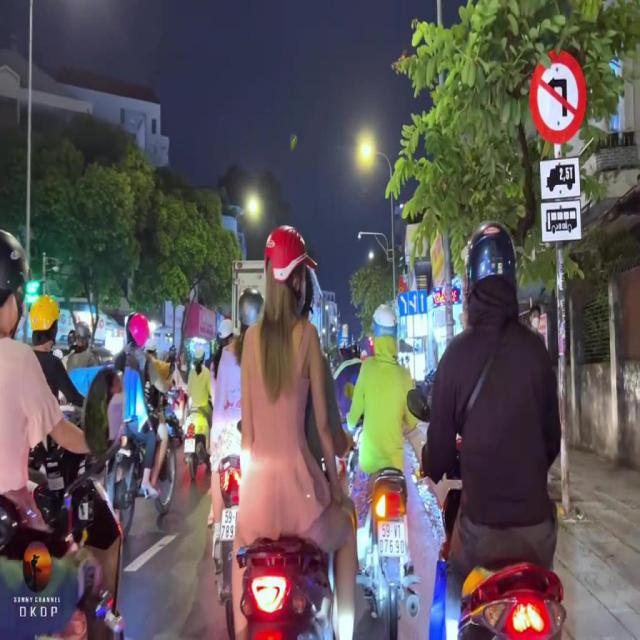cam_re_trai: (530, 50, 587, 144)
huong_di_tren_moi_lan_duong_theo_vach_ke_duong: (399, 291, 427, 316)
khac: (540, 158, 581, 200), (541, 201, 581, 241)
